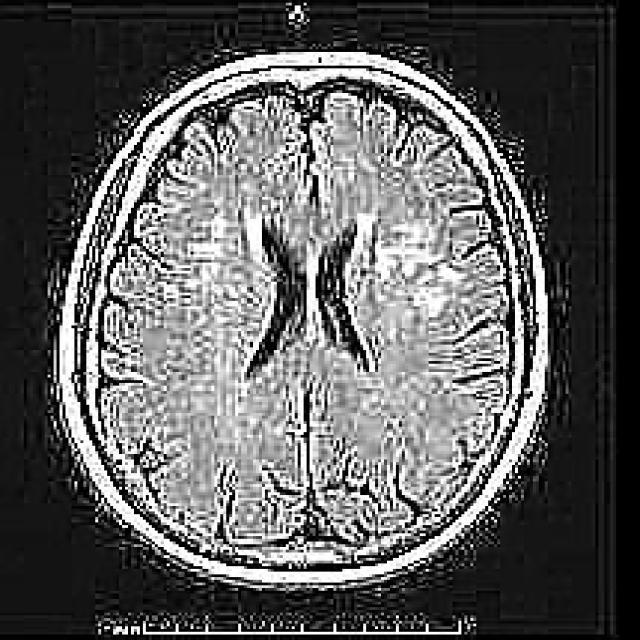notumor: (51, 60, 548, 594)
